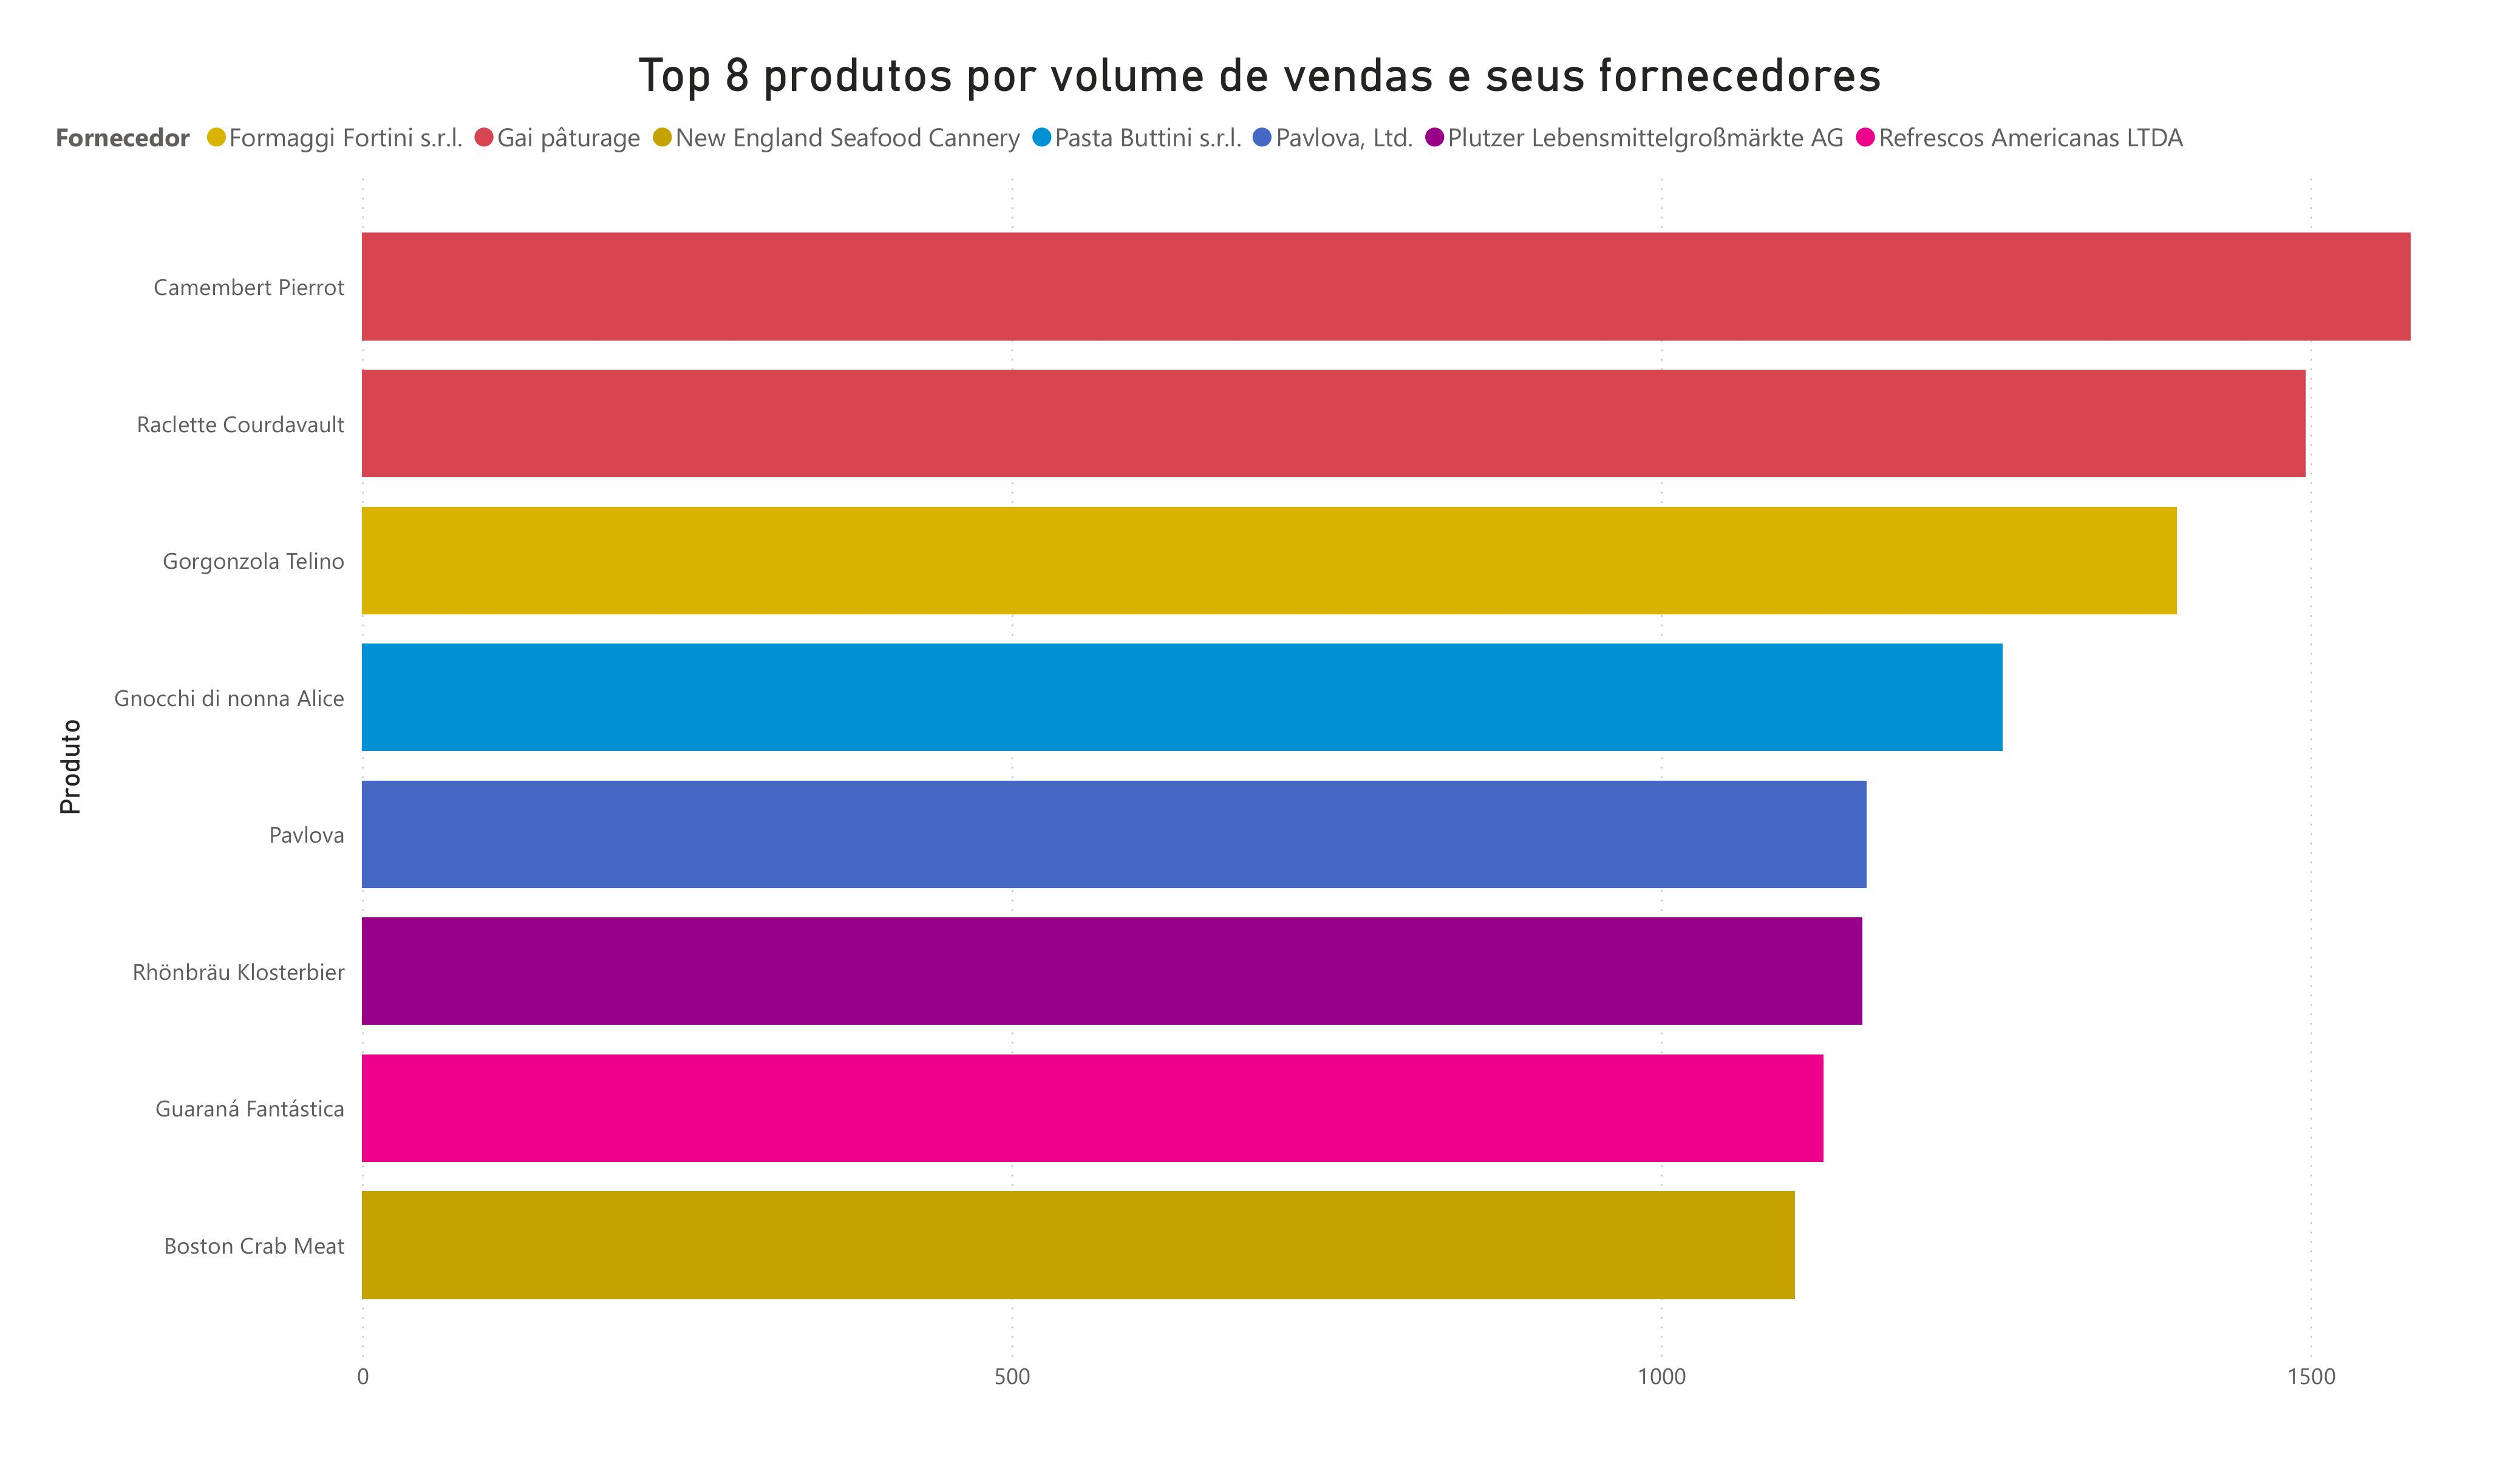

This screenshot's page, from the dashboard's own definition file:
{"tool":"powerbi","page":{"name":"Página 8","canvas":[1280,720],"ordinal":7},"visuals":[{"type":"barChart","title":"Top 8 produtos por volume de vendas e seus fornecedores","fields":{"Category":["dim_product.ProductName"],"Y":["Sum(fact_vendas.Quantity)"],"Series":["dim_product.Supplier"]},"box":[0,0,1280.2,719.8],"z":0}]}

Visuals, with their boxes on the page's 1280x720 design canvas (x1, y1, x2, y2). These are canvas units, not pixel positions in the 2520x1457 screenshot, which may show the page scaled, cropped or inside an application window:
"Top 8 produtos por volume de vendas e seus fornecedores" barChart: left=0, top=0, right=1280, bottom=720
